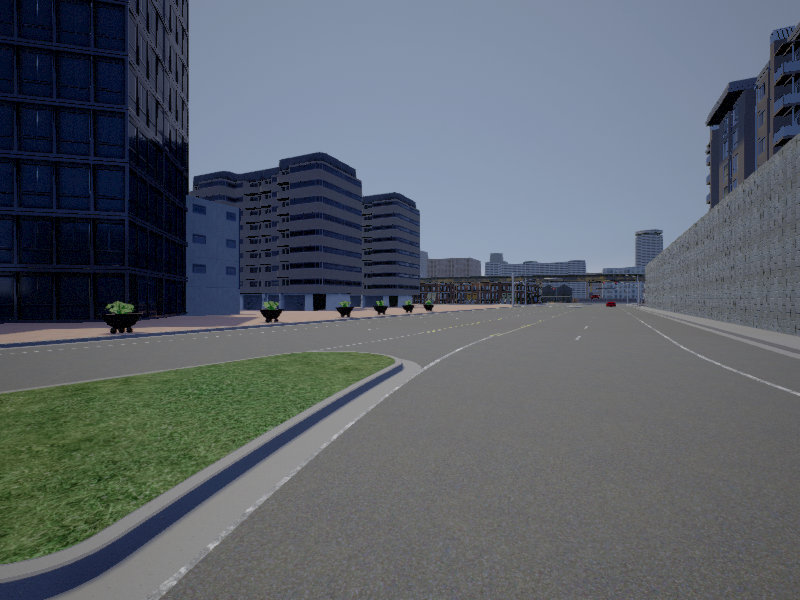Attacker: (590, 293, 600, 299)
Benign: (606, 301, 617, 308)
